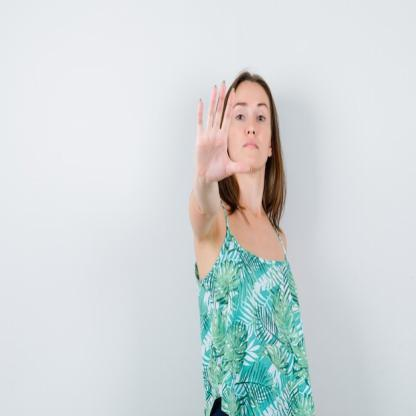stop: (191, 76, 252, 180)
